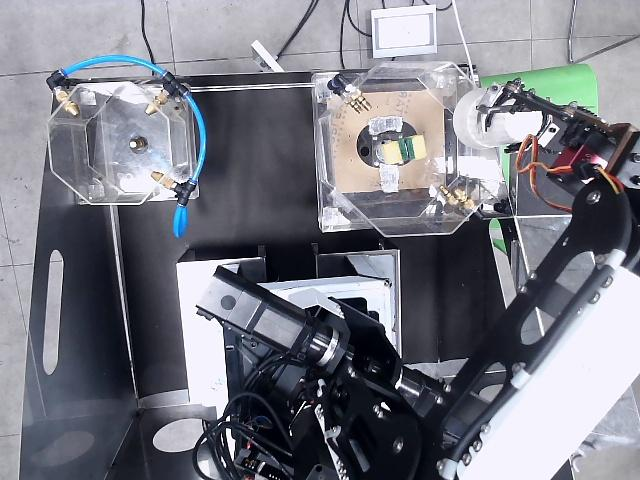cup: (454, 83, 542, 149)
